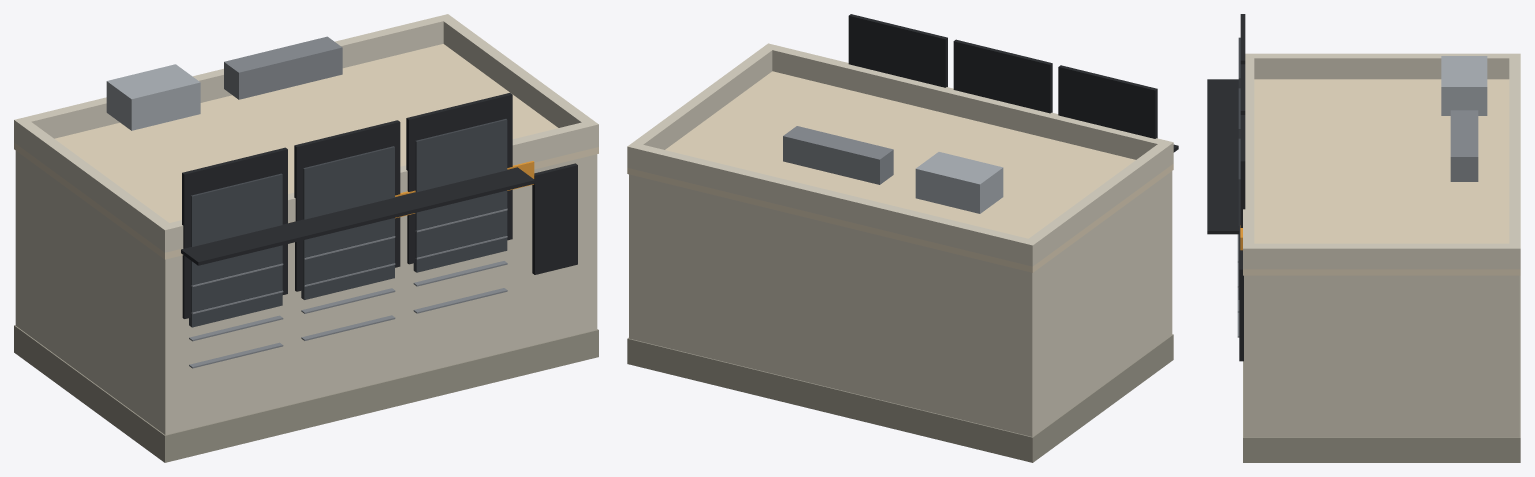
The model's file is building.garage.glb.
The picture shows the model from 3 angles, left to right: view 1: azimuth 30°, elevation 25°; view 2: azimuth 150°, elevation 25°; view 3: azimuth 270°, elevation 25°; orthographic projection. The views are drawn at different scales.
Parts seen in each view (by area): view 1: building.garage; view 2: building.garage; view 3: building.garage.
Part boxes in pixels (left/top/right/bottom): building.garage: left=14, top=14, right=598, bottom=462; building.garage: left=627, top=14, right=1178, bottom=462; building.garage: left=1207, top=14, right=1520, bottom=462.
Size of the model in its own units: 10.05 by 6.3 by 6.82.
